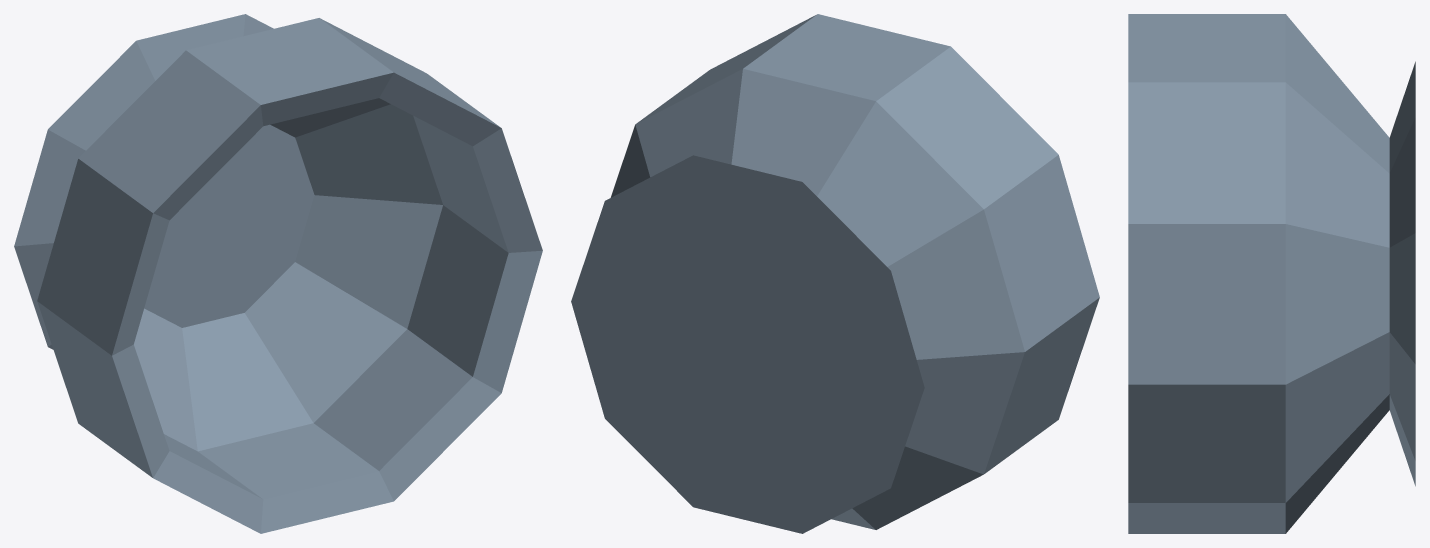
Rendered from ColanderCollider.obj.
The picture shows the model from 3 angles, left to right: view 1: azimuth 30°, elevation 25°; view 2: azimuth 150°, elevation 25°; view 3: azimuth 270°, elevation 25°; orthographic projection. The views are drawn at different scales.
Visible parts, largest first — view 1: pot, pot.007, pot.006, pot.002, pot.011, pot.001, pot.013, pot.014, pot.008, pot.003, pot.012, pot.015 (+6 smaller); view 2: pot.001, pot.007, pot.018, pot.019, pot.006, pot.017, pot.008, pot.020, pot.005, pot.016, pot.021, pot.009 (+1 smaller); view 3: pot.010, pot.009, pot.011, pot.015, pot.016, pot.008, pot.014, pot.001, pot.017, pot.002, pot.013.
Boxes of the visible parts, bbox=[...] form: pot: bbox=[144, 124, 314, 327]; pot.007: bbox=[78, 50, 263, 220]; pot.006: bbox=[37, 159, 169, 355]; pot.002: bbox=[314, 329, 501, 500]; pot.011: bbox=[407, 205, 542, 392]; pot.001: bbox=[14, 14, 273, 349]; pot.013: bbox=[245, 262, 406, 422]; pot.014: bbox=[295, 195, 442, 328]; pot.008: bbox=[186, 18, 393, 126]; pot.003: bbox=[198, 423, 393, 533]; pot.012: bbox=[182, 313, 313, 451]; pot.015: bbox=[295, 104, 442, 204]; pot.001: bbox=[571, 155, 924, 533]; pot.007: bbox=[876, 47, 1058, 208]; pot.018: bbox=[817, 101, 983, 266]; pot.019: bbox=[887, 209, 1024, 359]; pot.006: bbox=[984, 155, 1099, 351]; pot.017: bbox=[731, 69, 875, 195]; pot.008: bbox=[743, 14, 950, 100]; pot.020: bbox=[905, 352, 1024, 474]; pot.005: bbox=[984, 297, 1099, 473]; pot.016: bbox=[635, 69, 742, 177]; pot.021: bbox=[852, 446, 983, 529]; pot.009: bbox=[636, 15, 815, 123]; pot.010: bbox=[1128, 224, 1285, 384]; pot.009: bbox=[1128, 82, 1285, 223]; pot.011: bbox=[1128, 384, 1285, 502]; pot.015: bbox=[1285, 224, 1389, 384]; pot.016: bbox=[1285, 82, 1389, 247]; pot.008: bbox=[1128, 14, 1285, 82]; pot.014: bbox=[1285, 332, 1389, 502]; pot.001: bbox=[1389, 61, 1415, 486]; pot.017: bbox=[1285, 14, 1389, 173]; pot.002: bbox=[1128, 503, 1285, 533]; pot.013: bbox=[1285, 394, 1389, 533].
Size of what is drawn, in the model's own units: 0.3287 by 0.3126 by 0.1804.
